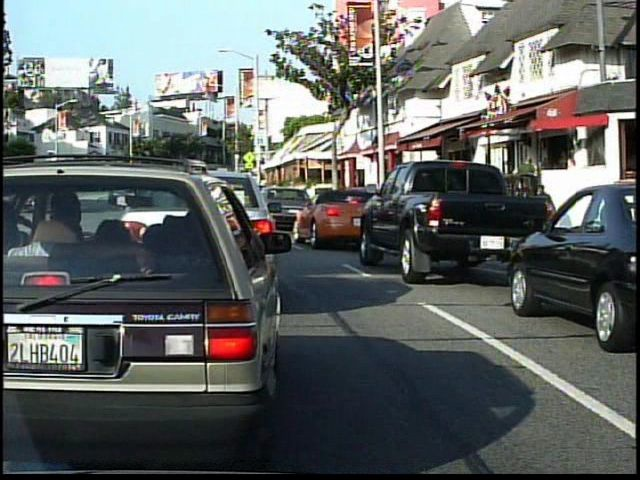person: (515, 151, 540, 205)
